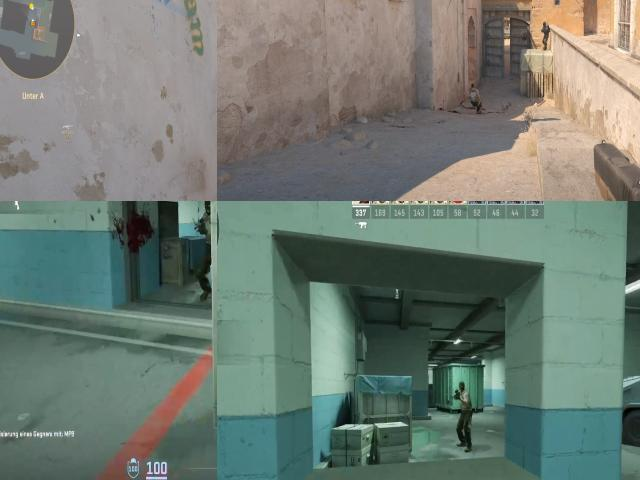CT: (542, 20, 549, 48)
CT-Head: (543, 21, 546, 26)
Dead: (466, 83, 487, 116)
T: (195, 201, 211, 274), (455, 384, 473, 418)
T-Head: (198, 201, 212, 217), (456, 380, 468, 395)
